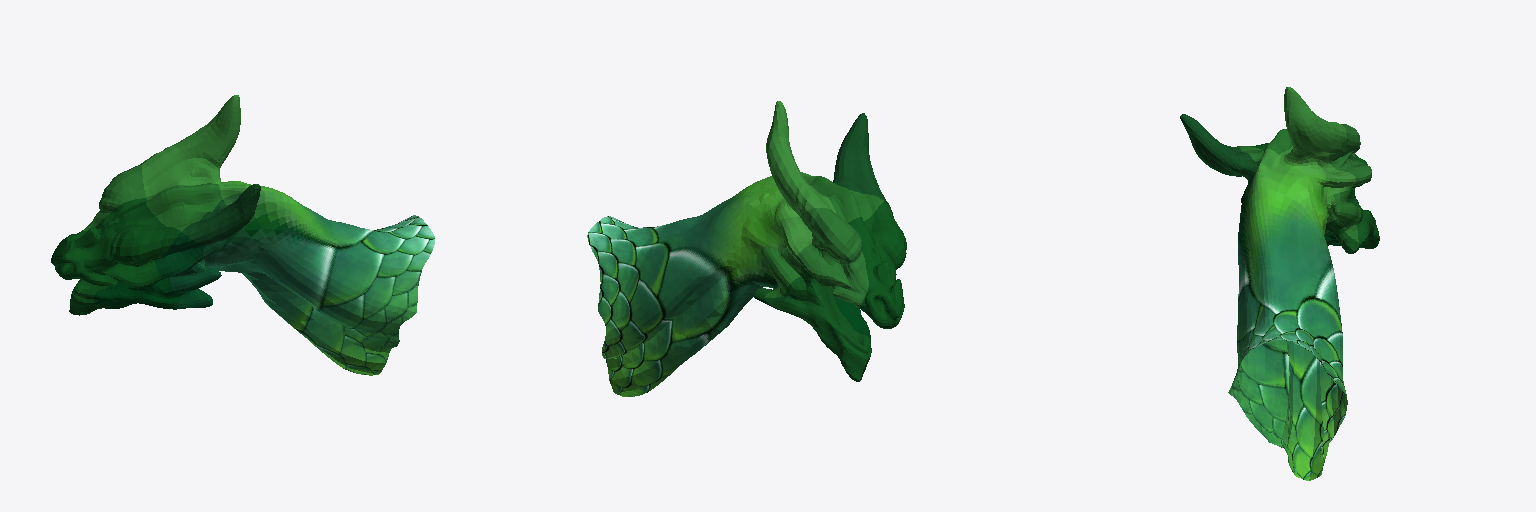
3 views of the same model, side by side, from view 1: azimuth 30°, elevation 25°; view 2: azimuth 150°, elevation 25°; view 3: azimuth 270°, elevation 25° (orthographic).
Parts seen in each view (by area): view 1: CabezaVerde; view 2: CabezaVerde; view 3: CabezaVerde.
Boxes of the visible parts, x1,y1,x2,y2 form: CabezaVerde: [51, 95, 434, 375]; CabezaVerde: [587, 101, 906, 396]; CabezaVerde: [1180, 87, 1379, 480].
Size of the model in its own units: 2.93 by 2.69 by 1.5.
1 materials, 1 textured.